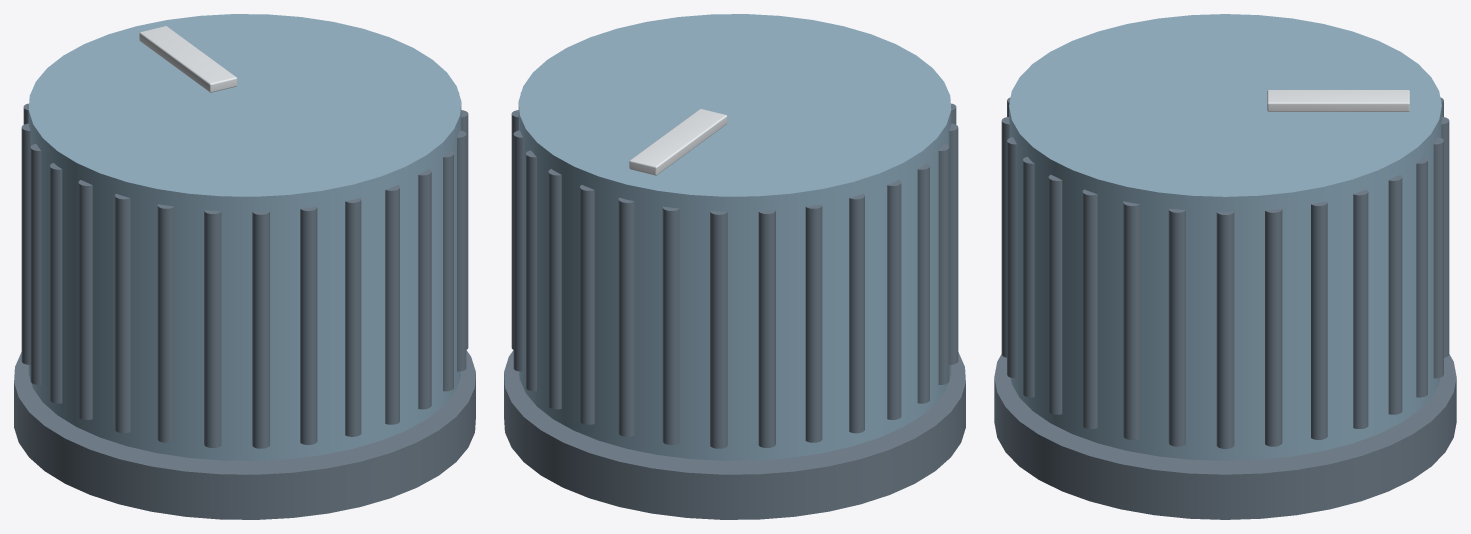
The picture shows the model from 3 angles, left to right: view 1: azimuth 30°, elevation 25°; view 2: azimuth 150°, elevation 25°; view 3: azimuth 270°, elevation 25°; orthographic projection.
Visible parts, largest first — view 1: A/0000_grip, A/0001_flange, A/0019_knurl, A/0020_knurl, A/0021_knurl, A/0022_knurl, A/0023_knurl, A/0018_knurl, A/0024_knurl, A/0017_knurl, A/0025_knurl, A/0016_knurl (+6 smaller); view 2: A/0000_grip, A/0001_flange, A/0013_knurl, A/0010_knurl, A/0011_knurl, A/0012_knurl, A/0009_knurl, A/0014_knurl, A/0008_knurl, A/0015_knurl, A/0007_knurl, A/0016_knurl (+6 smaller); view 3: A/0000_grip, A/0001_flange, A/0002_knurl, A/0003_knurl, A/0029_knurl, A/0004_knurl, A/0028_knurl, A/0005_knurl, A/0027_knurl, A/0006_knurl, A/0026_knurl, A/0030_index_mark (+6 smaller).
Boxes of the visible parts, x1,y1,x2,y2 form: A/0000_grip: (28,14,461,460); A/0001_flange: (14,350,475,519); A/0019_knurl: (157,204,174,442); A/0020_knurl: (204,210,221,447); A/0021_knurl: (252,211,269,448); A/0022_knurl: (300,206,317,444); A/0023_knurl: (345,197,361,436); A/0018_knurl: (115,193,130,433); A/0024_knurl: (385,185,399,424); A/0017_knurl: (78,180,92,419); A/0025_knurl: (418,169,431,409); A/0016_knurl: (50,163,62,403); A/0000_grip: (518,14,951,460); A/0001_flange: (504,350,965,519); A/0013_knurl: (805,204,822,442); A/0010_knurl: (662,206,679,444); A/0011_knurl: (710,211,727,448); A/0012_knurl: (758,210,775,447); A/0009_knurl: (618,197,634,436); A/0014_knurl: (849,193,864,433); A/0008_knurl: (580,185,594,424); A/0015_knurl: (887,180,901,419); A/0007_knurl: (548,169,561,409); A/0016_knurl: (917,163,929,403); A/0000_grip: (1009,14,1441,460); A/0001_flange: (994,354,1456,519); A/0002_knurl: (1216,211,1234,448); A/0003_knurl: (1265,208,1282,446); A/0029_knurl: (1168,208,1185,446); A/0004_knurl: (1311,201,1327,439); A/0028_knurl: (1123,201,1139,439); A/0005_knurl: (1353,189,1368,428); A/0027_knurl: (1082,189,1097,428); A/0006_knurl: (1388,175,1402,414); A/0026_knurl: (1048,175,1062,414); A/0030_index_mark: (1267,90,1409,111).
Bounding box in the file's own units: 0.0611 × 0.0475 × 0.0611.
